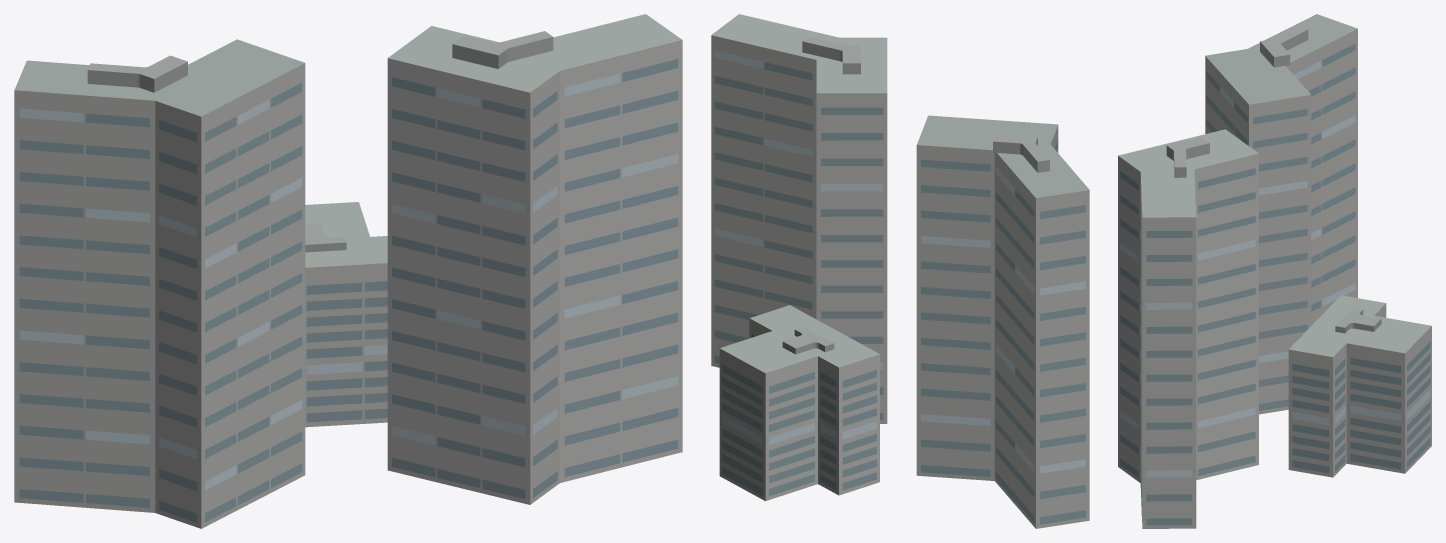
Rendered from apt-a13610102.glb.
The picture shows the model from 3 angles, left to right: view 1: azimuth 30°, elevation 25°; view 2: azimuth 150°, elevation 25°; view 3: azimuth 270°, elevation 25°; orthographic projection. The views are drawn at different scales.
Parts seen in each view (by area): view 1: apt-a13610102; view 2: apt-a13610102; view 3: apt-a13610102.
Part boxes in pixels (x1,y1,x2,y2): apt-a13610102: (14,14,682,528); apt-a13610102: (711,14,1089,528); apt-a13610102: (1118,14,1431,528).
Bounding box in the file's own units: 100 × 74 × 65.41.
